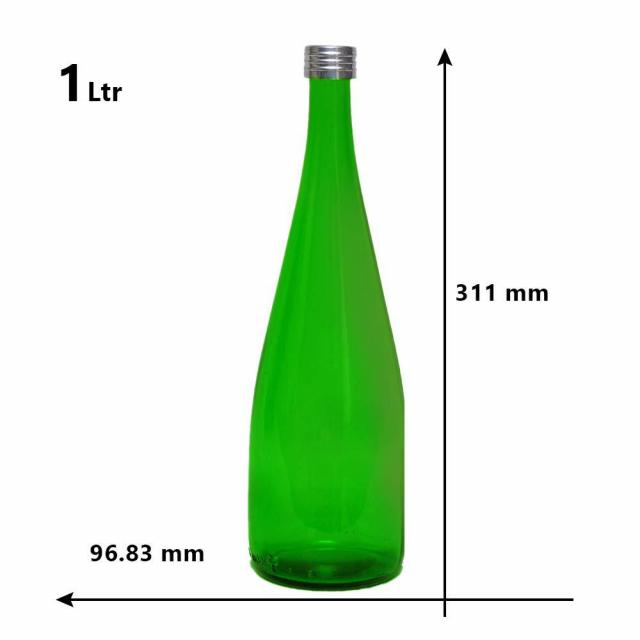non-organic waste: (244, 28, 411, 597)
